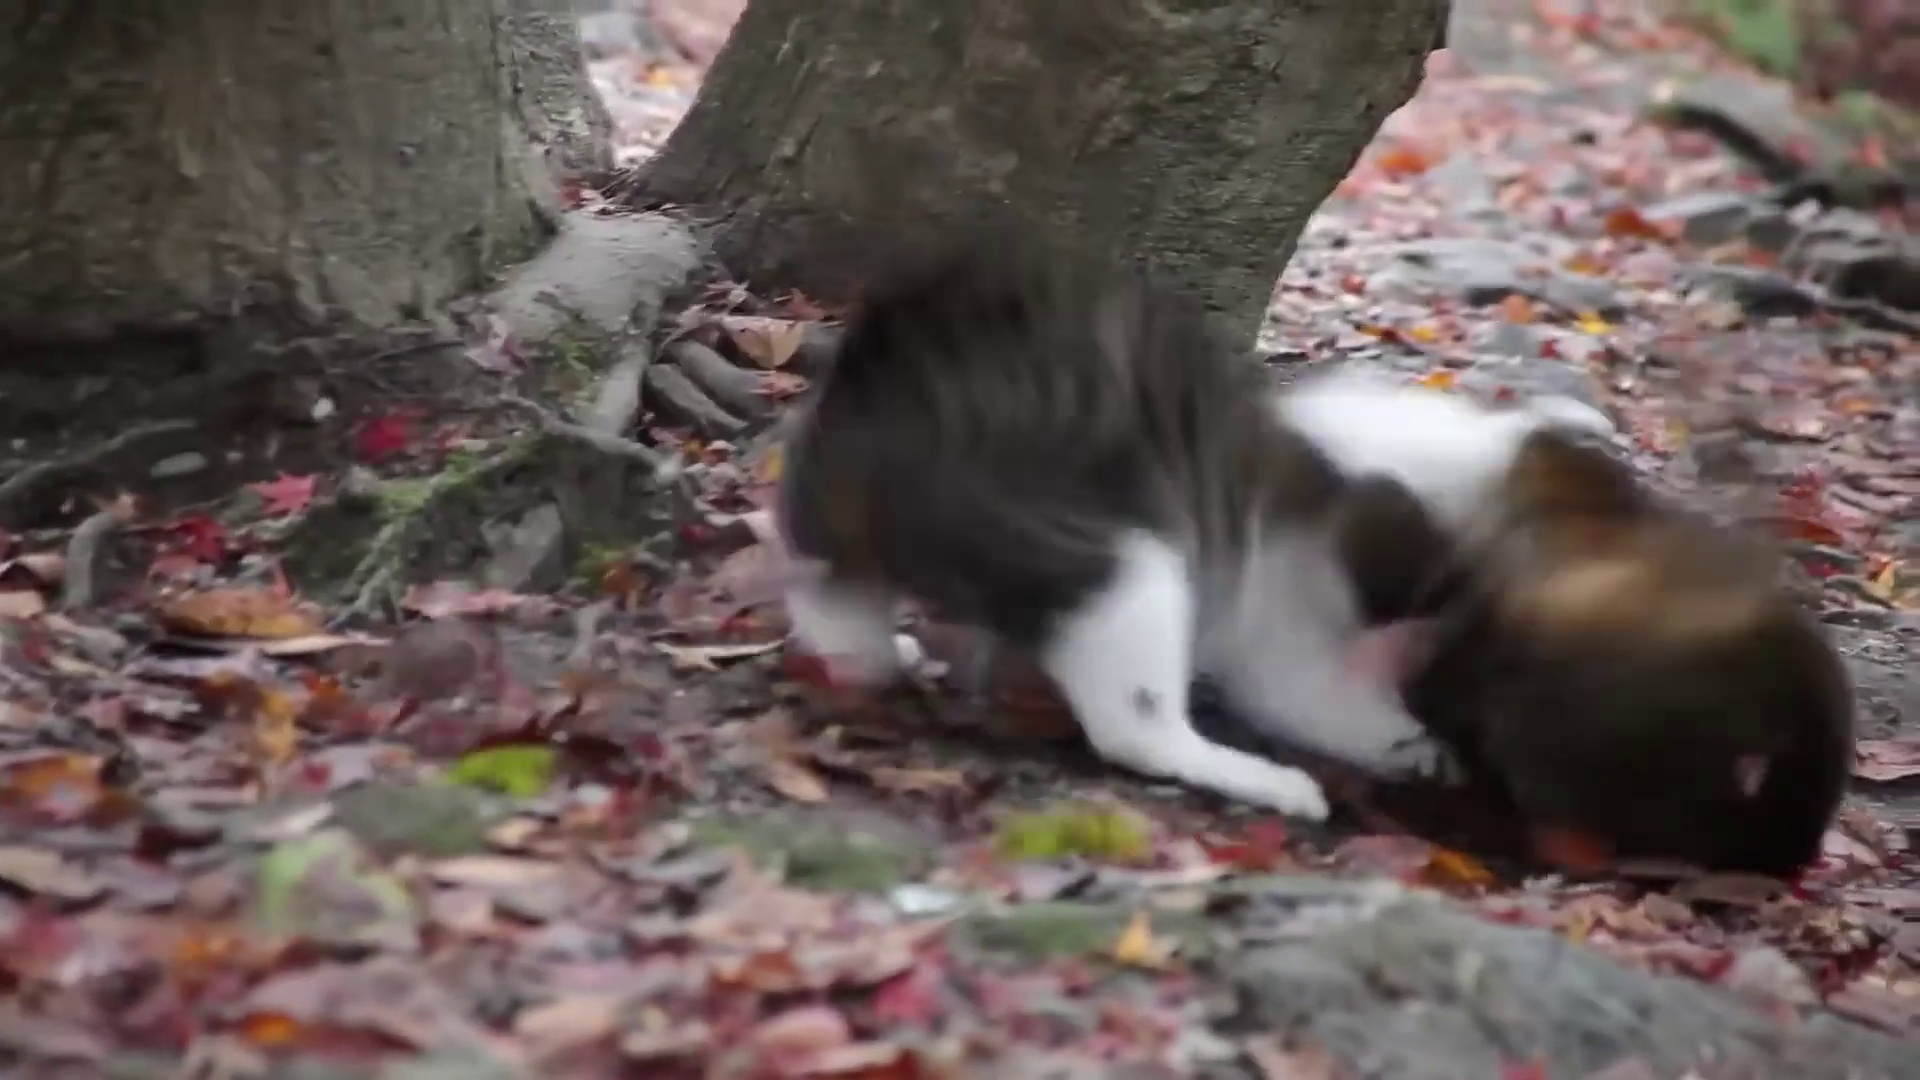black-white: (787, 248, 1464, 816)
pure black: (1400, 427, 1855, 872)
